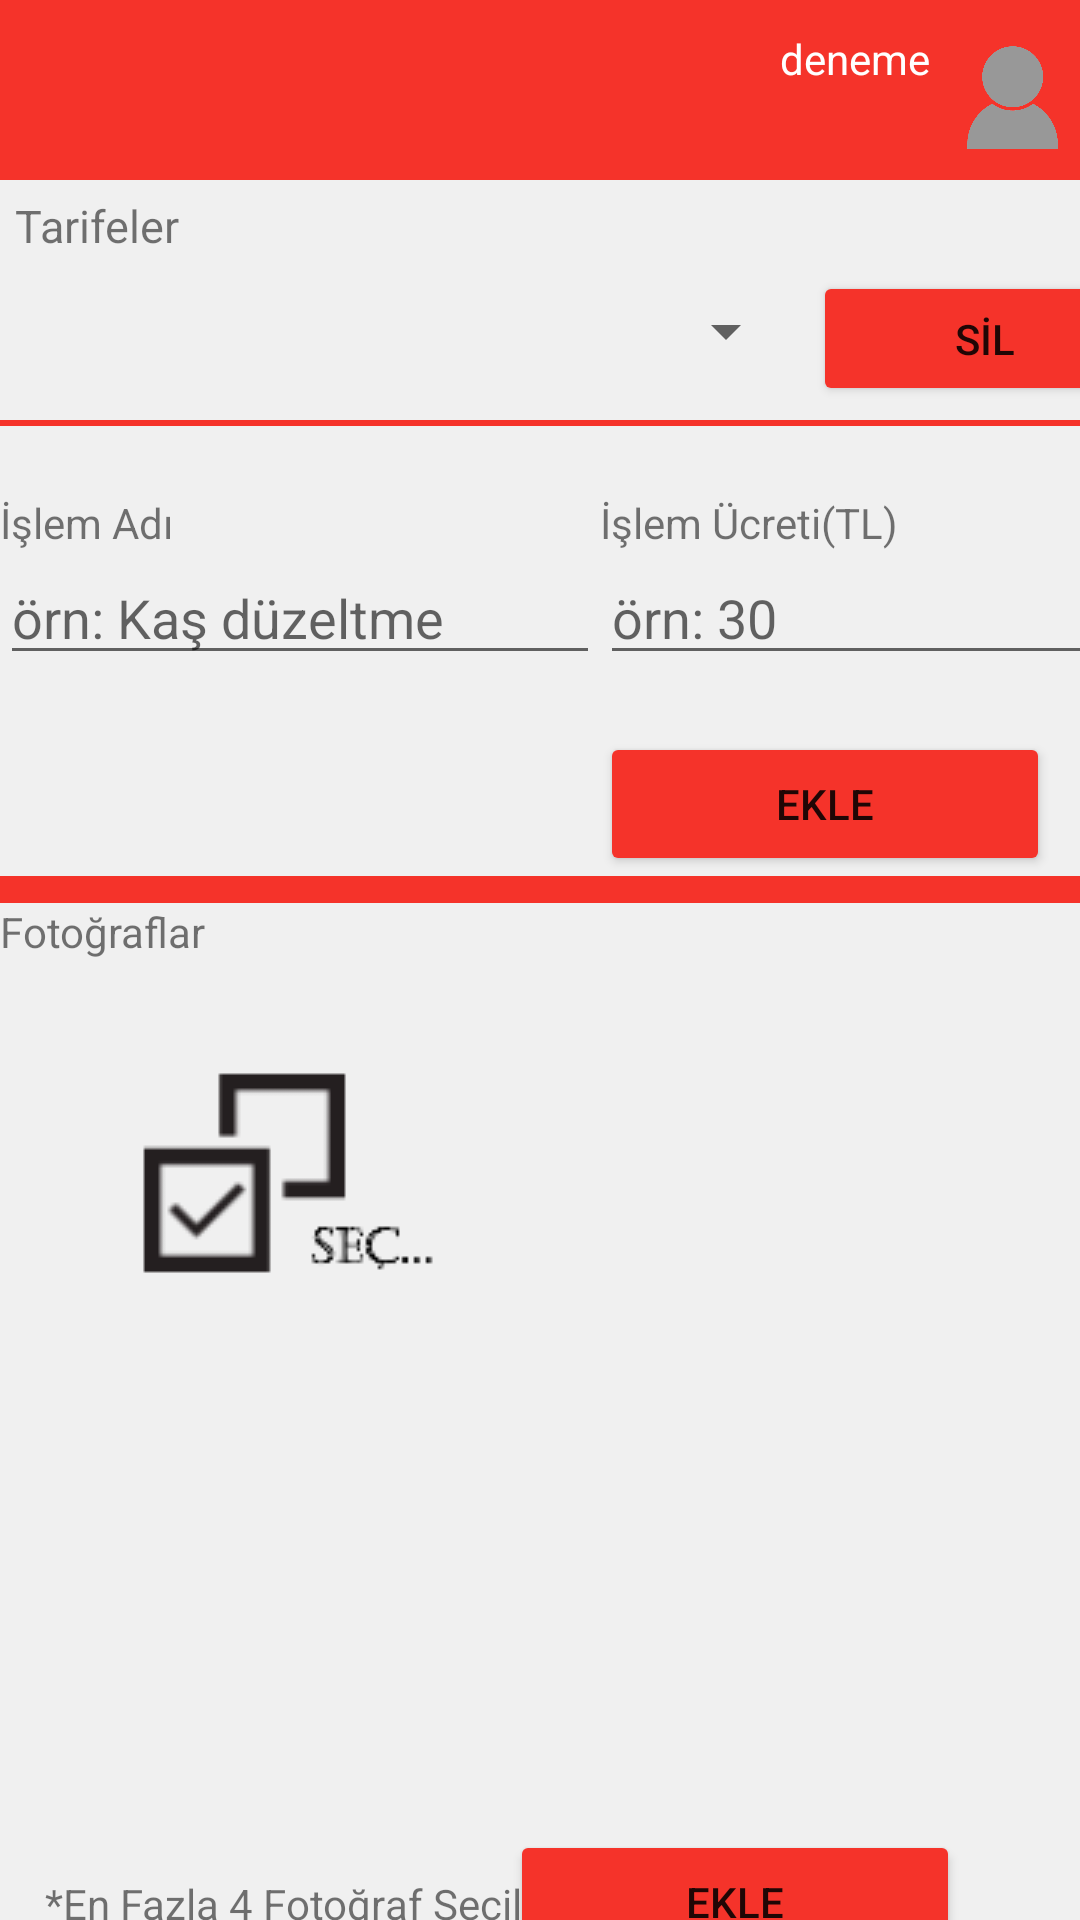

Icons on this 1080w x 1920h Android screen, each with the point to tap as (x,y):
defaultkaydol: (1012,97)
